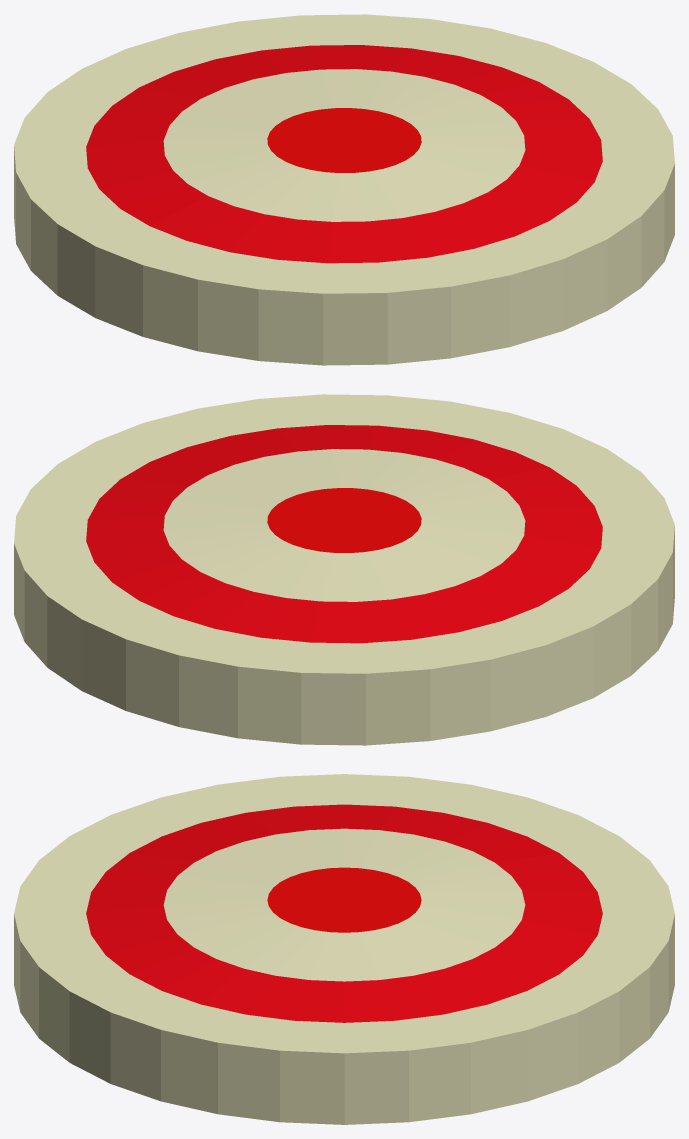
File: target.fbx
3 renders of one model, top to bottom at view 1: azimuth 30°, elevation 25°; view 2: azimuth 150°, elevation 25°; view 3: azimuth 270°, elevation 25°, orthographic.
Parts seen in each view (by area): view 1: Circle; view 2: Circle; view 3: Circle.
Boxes of the visible parts, <box> form: Circle: <box>14,14,674,365</box>; Circle: <box>14,394,674,745</box>; Circle: <box>14,774,674,1124</box>.
Bounding box in the file's own units: 120 × 17.05 × 120.
